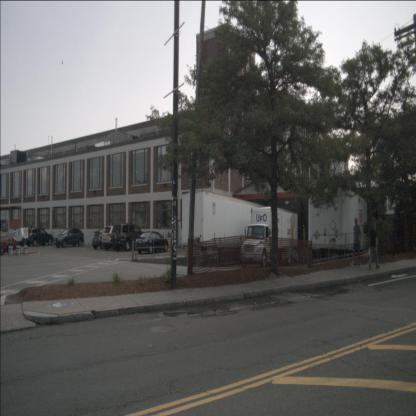cone: (168, 239, 172, 249)
